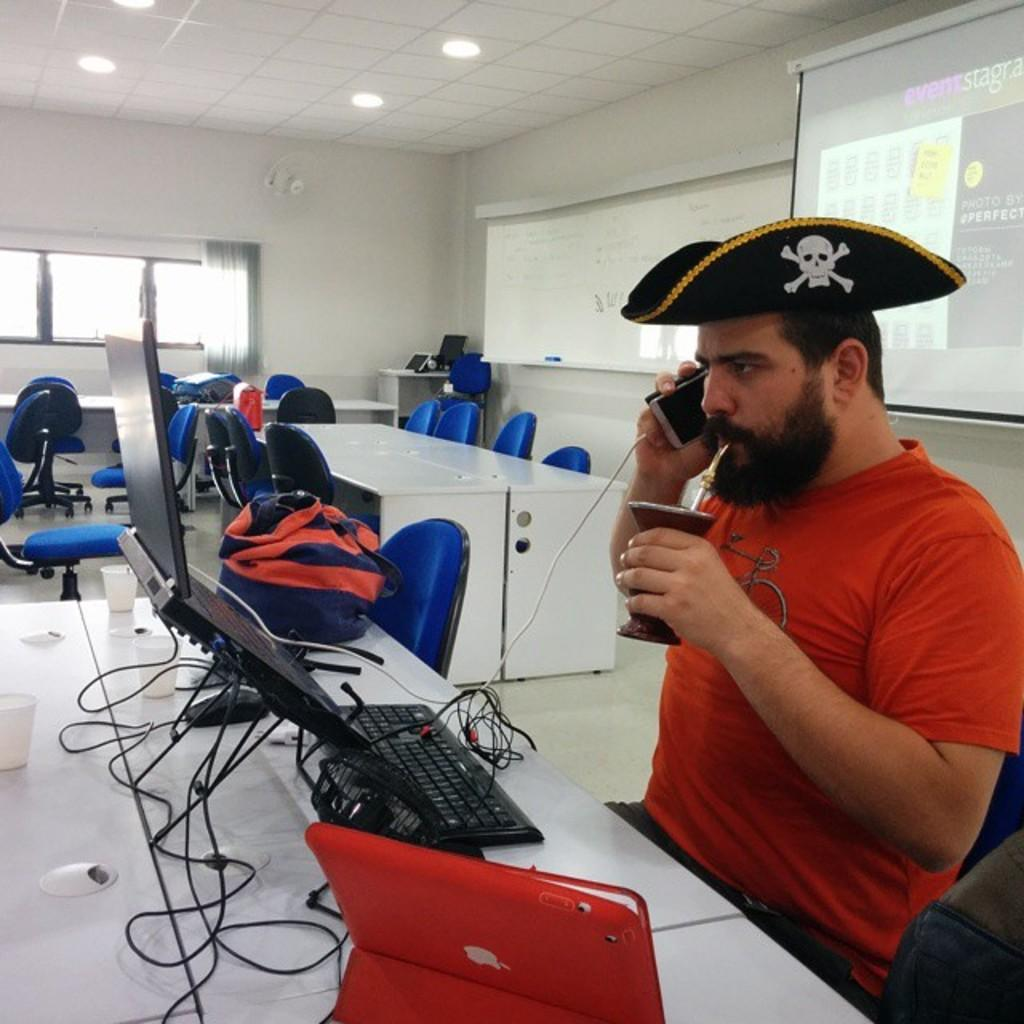Hat: (618, 214, 968, 326)
